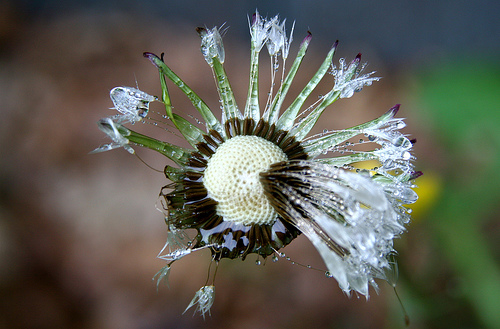dandelion: (93, 1, 443, 316)
